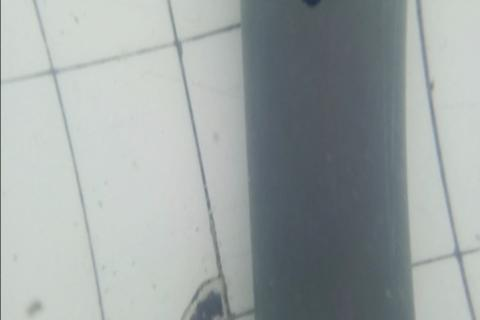kebocoran: (300, 0, 323, 9)
